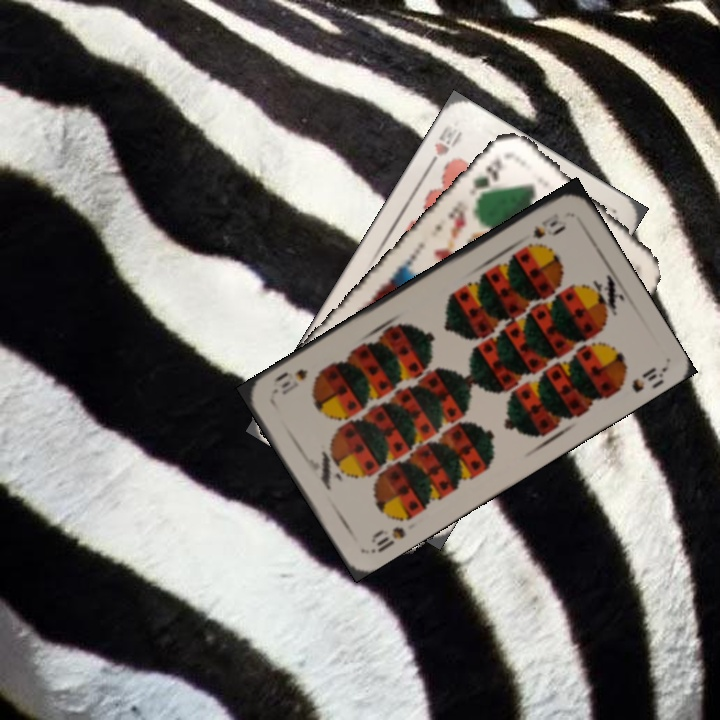GK: (465, 154, 505, 203)
H10: (422, 121, 465, 173)
S10: (366, 522, 409, 556), (528, 208, 562, 241)
